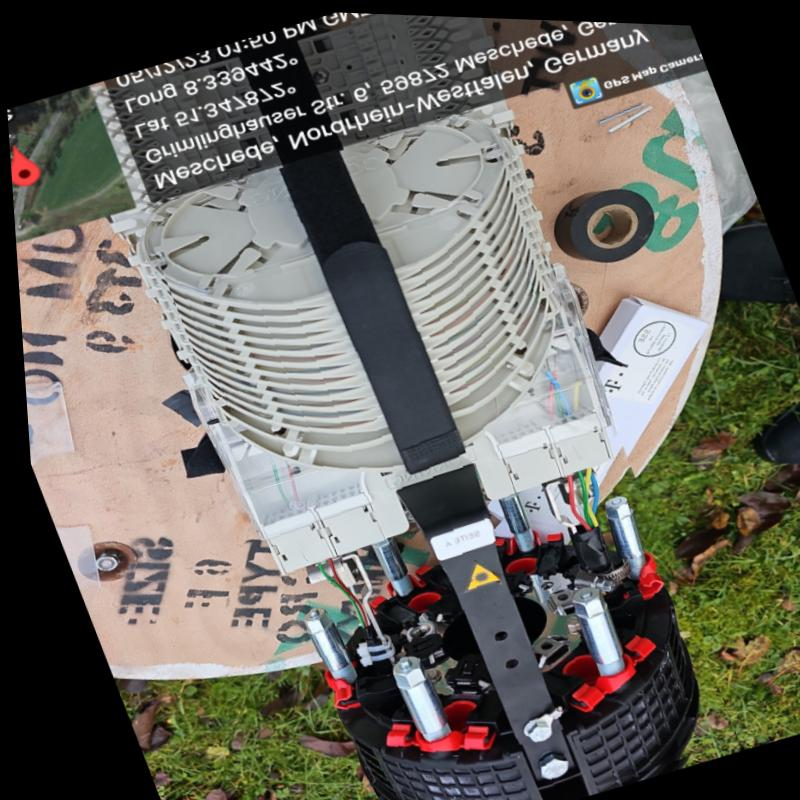NT-Muffen: (130, 91, 736, 800)
